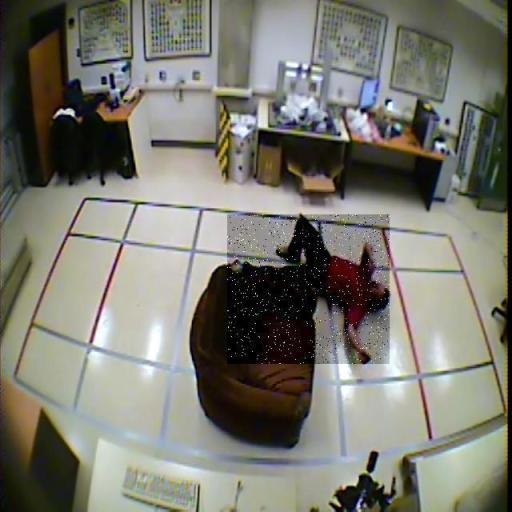Fall: (227, 214, 390, 364)
